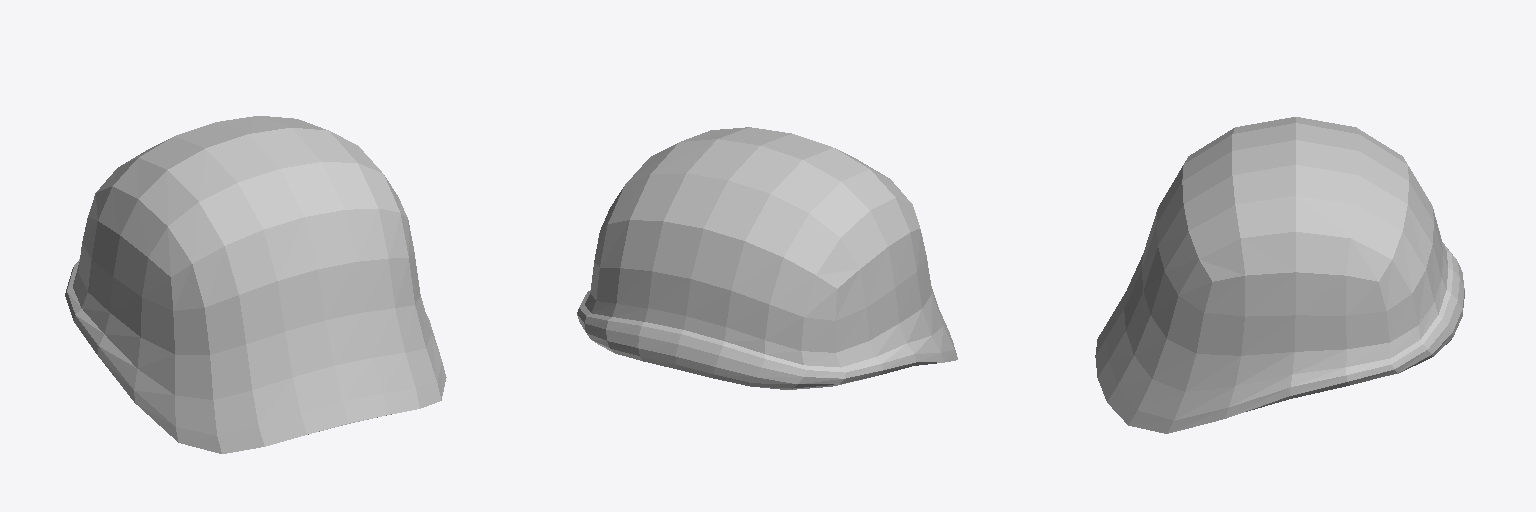
The model's file is humanhelmet.obj.
The picture shows the model from 3 angles: view 1: azimuth 30°, elevation 25°; view 2: azimuth 150°, elevation 25°; view 3: azimuth 270°, elevation 25°; orthographic projection.
Visible parts, largest first — view 1: Cube.003; view 2: Cube.003; view 3: Cube.003.
Part boxes in pixels (bbox=[...]): Cube.003: bbox=[65, 116, 446, 453]; Cube.003: bbox=[577, 127, 957, 389]; Cube.003: bbox=[1095, 117, 1464, 433].
Bounding box in the file's own units: 1.89 × 1.36 × 1.97.